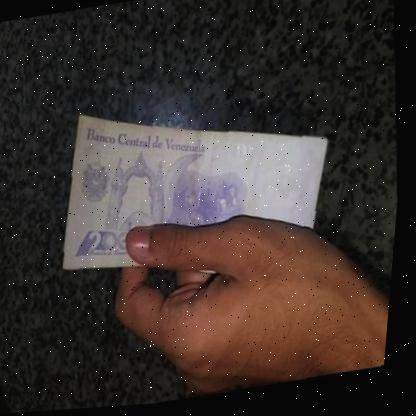ten-back-vef: (51, 82, 343, 302)
